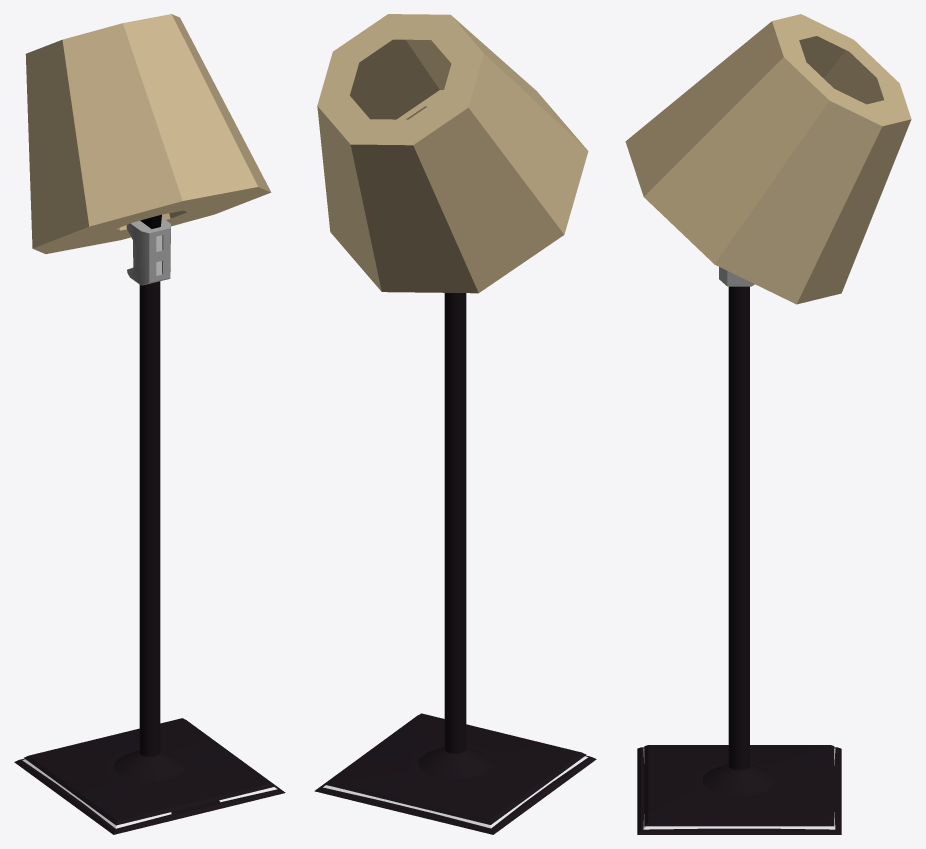
File: miclamppp.fbx
The picture shows the model from 3 angles, left to right: view 1: azimuth 30°, elevation 25°; view 2: azimuth 150°, elevation 25°; view 3: azimuth 270°, elevation 25°; orthographic projection. The views are drawn at different scales.
Visible parts, largest first — view 1: Lamp, mic.005, mic.004, mic.001; view 2: Lamp, mic.005, mic.004; view 3: Lamp, mic.005, mic.004.
Boxes of the visible parts, bbox=[...] form: Lamp: bbox=[25, 14, 271, 253]; mic.005: bbox=[14, 718, 285, 834]; mic.004: bbox=[114, 281, 185, 780]; mic.001: bbox=[126, 214, 170, 285]; Lamp: bbox=[317, 14, 588, 293]; mic.005: bbox=[314, 713, 596, 834]; mic.004: bbox=[418, 293, 492, 778]; Lamp: bbox=[625, 14, 911, 304]; mic.005: bbox=[637, 745, 841, 834]; mic.004: bbox=[703, 286, 775, 795].
Size of the model in its own units: 58.08 by 188 by 63.6.
